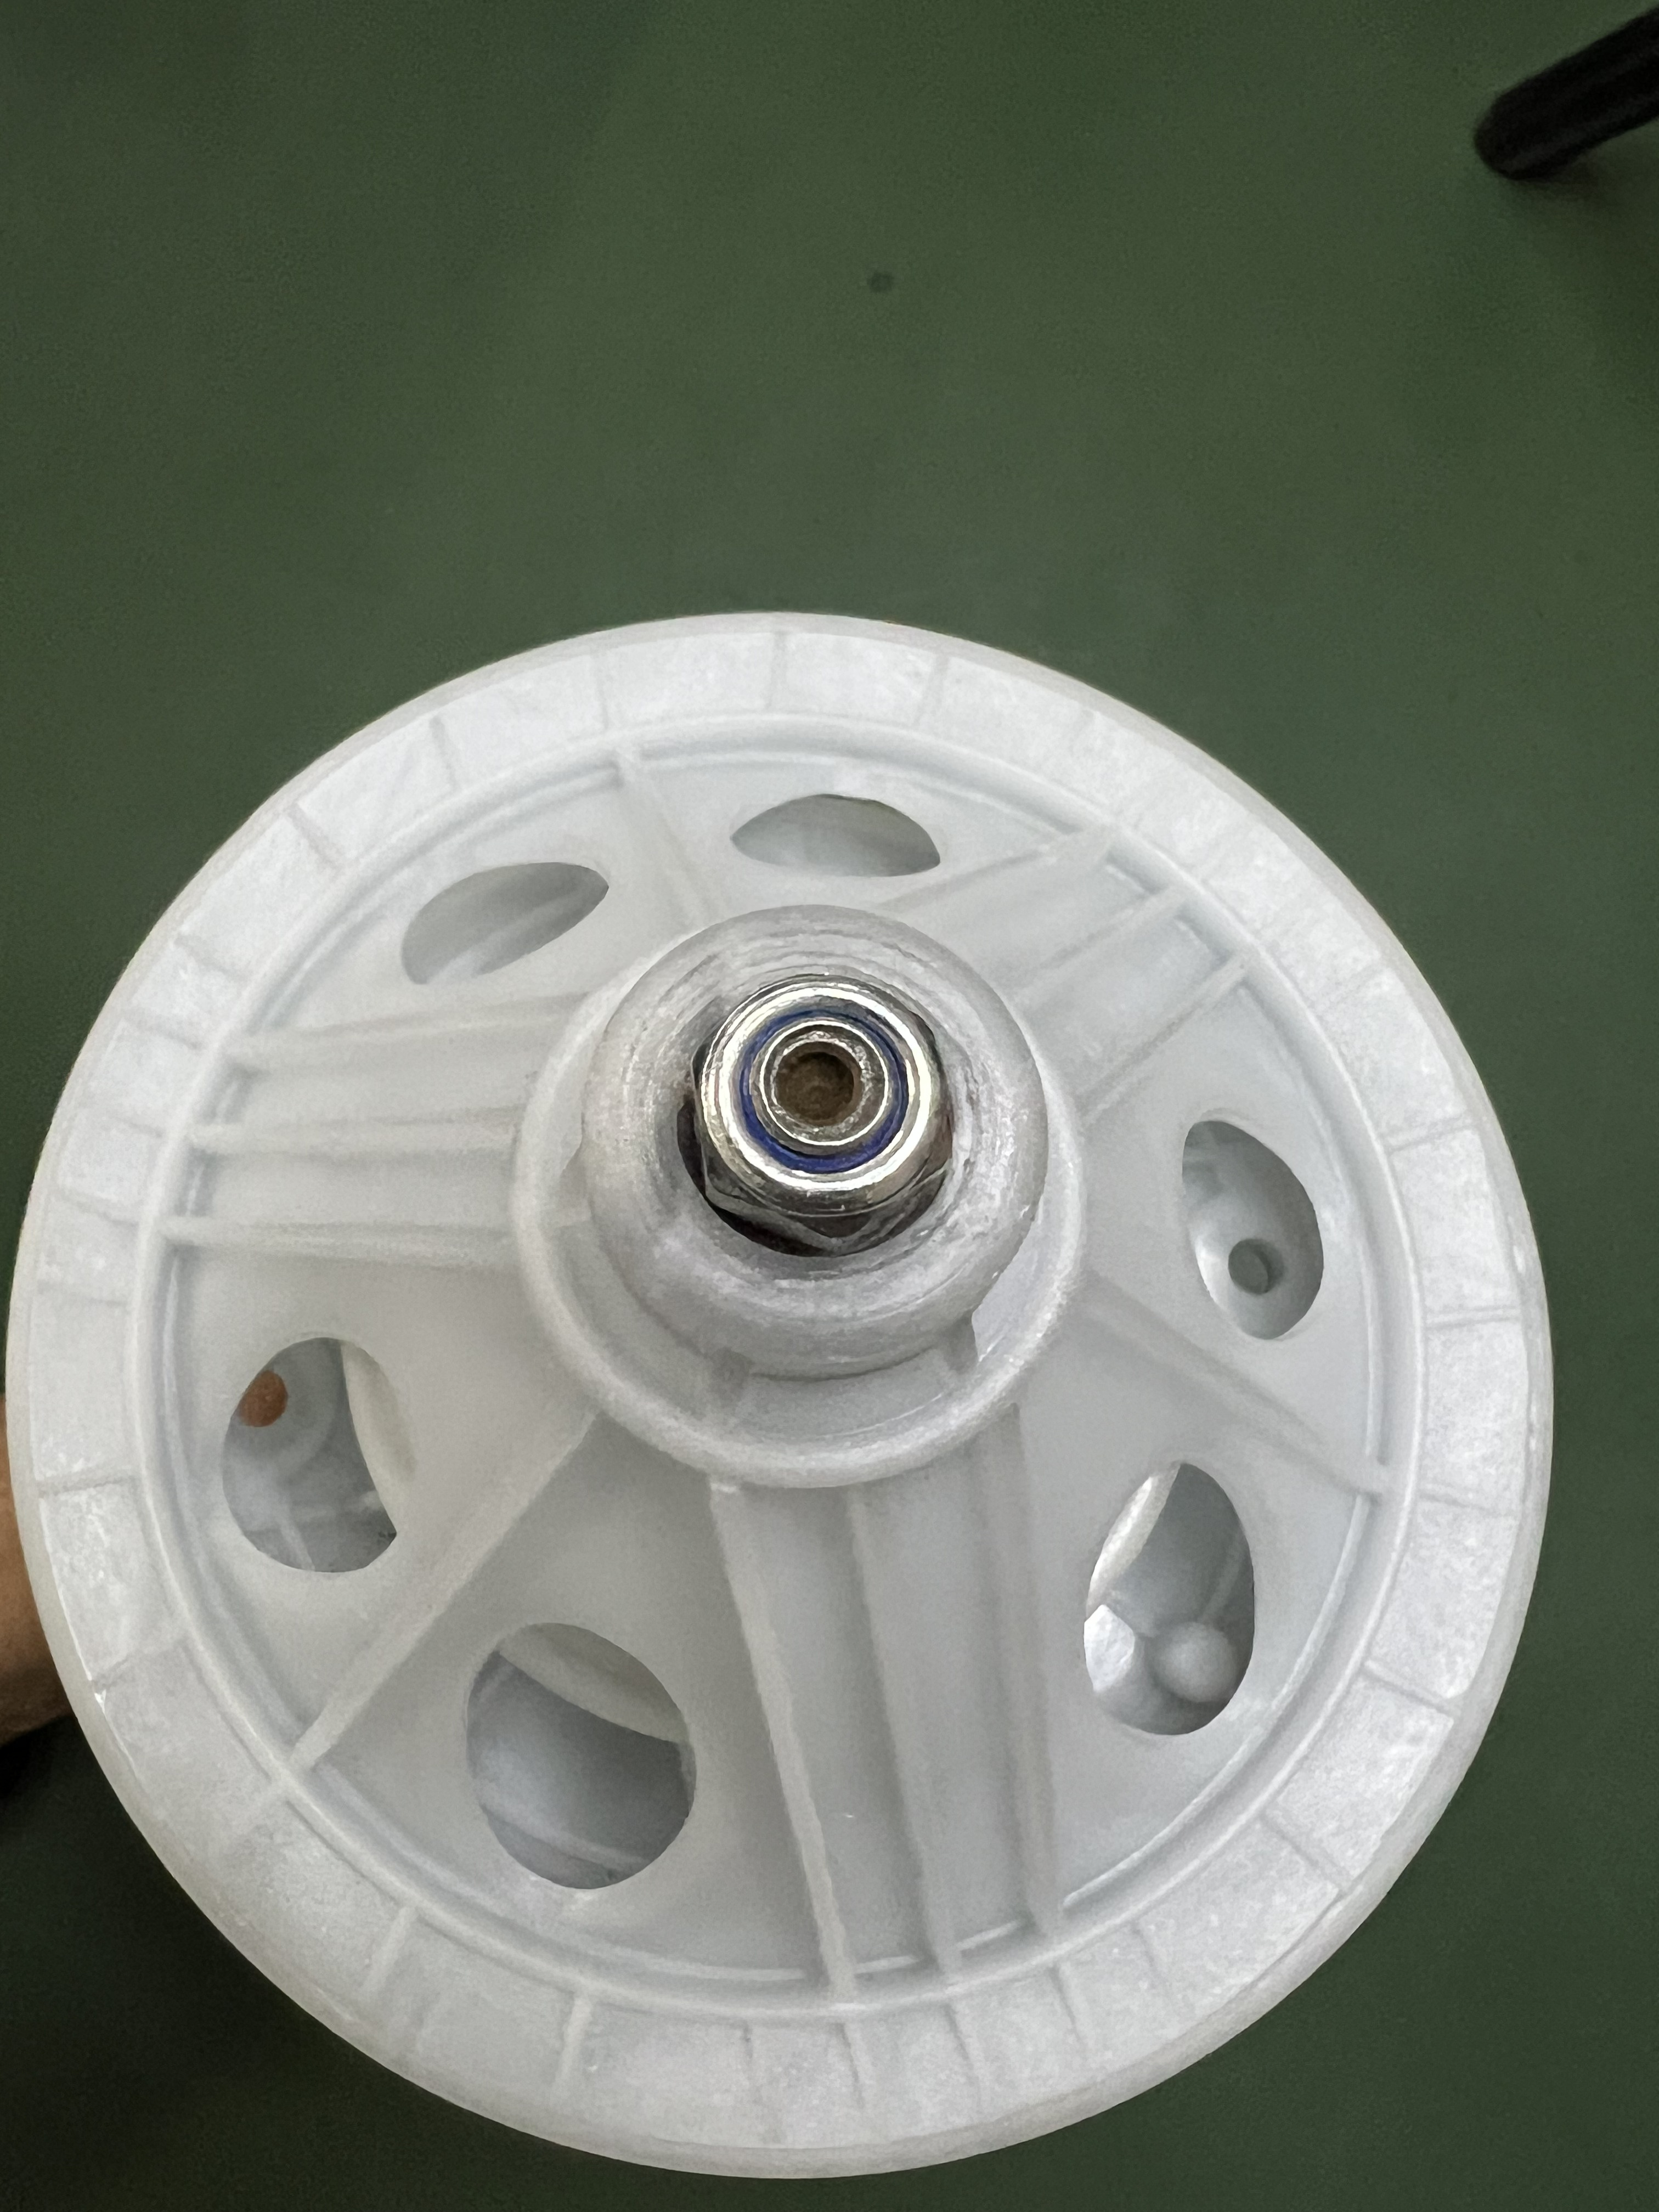gear_box_circle: (12, 611, 1565, 2184)
